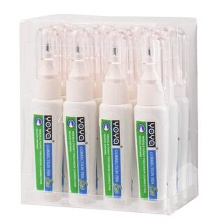book: (15, 11, 201, 219)
correction_fluid: (95, 27, 137, 213), (61, 26, 100, 210), (132, 28, 170, 215), (28, 24, 64, 205)
